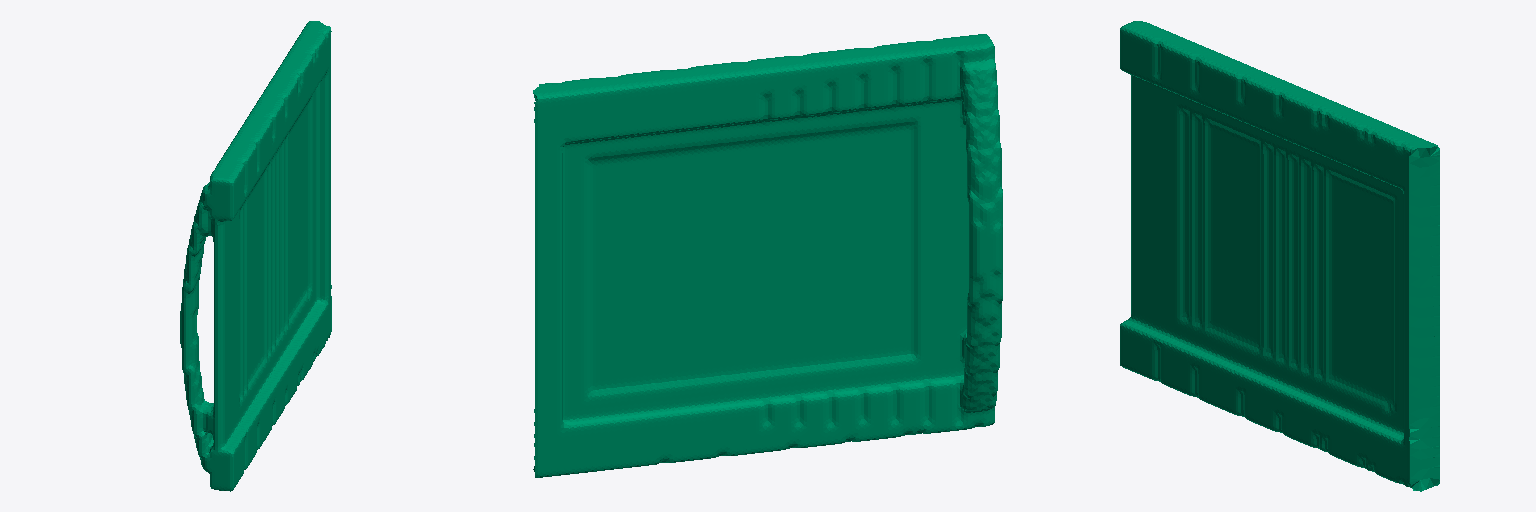
robot.urdf — object:
<?xml version='1.0' encoding='utf-8'?>
<robot name="object">
  <link name="base">
    <inertial>
      <origin xyz="0 0 0" rpy="0 0 0" />
      <mass value="0.0" />
      <inertia ixx="0" ixy="0" ixz="0" iyy="0" iyz="0" izz="0" />
    </inertial>
  </link>
  <link name="link_1">
    <visual>
      <origin xyz="0 0 0.442213099" rpy="0 0 0" />
      <geometry>
        <mesh filename="meshes/link_1.stl" />
      </geometry>
    </visual>
    <collision>
      <origin xyz="0 0 0.442213099" rpy="0 0 0" />
      <geometry>
        <mesh filename="meshes/link_1.stl" />
      </geometry>
    </collision>
    <inertial>
      <origin xyz="0.197543814 -0.0393582574 0.458376354" rpy="0 0 0" />
      <mass value="976.575248" />
      <inertia ixx="265.132926" ixy="-45.4188641" ixz="-0.0677400685" iyy="191.41265" iyz="0.067343344" izz="291.763645" />
    </inertial>
  </link>
  <link name="link_2">
    <visual>
      <origin xyz="0.55257424 -0.647134065 -0.0156274979" rpy="0 0 0" />
      <geometry>
        <mesh filename="meshes/link_2.stl" />
      </geometry>
    </visual>
    <collision>
      <origin xyz="0.55257424 -0.647134065 -0.0156274979" rpy="0 0 0" />
      <geometry>
        <mesh filename="meshes/link_2.stl" />
      </geometry>
    </collision>
    <inertial>
      <origin xyz="-0.372601471 -0.356756921 -0.00151320252" rpy="0 0 0" />
      <mass value="33.3797183" />
      <inertia ixx="4.89775552" ixy="-1.69836703" ixz="0.00480350739" iyy="5.01910431" iyz="0.00395458892" izz="3.4331933" />
    </inertial>
  </link>
  <joint name="joint_1_2" type="revolute">
    <parent link="link_1" />
    <child link="link_2" />
    <origin xyz="-0.55257424 0.647134065 0.457840597" rpy="0 0 0" />
    <axis xyz="0.00310061246 -0.00671197532 -0.999972667" />
    <limit lower="-1.57" upper="1.57" effort="10.0" velocity="1.0" />
  </joint>
  <joint name="base_to_1" type="fixed">
    <parent link="base" />
    <child link="link_1" />
    <origin xyz="0 0 -0.442213099" rpy="0 0 0" />
  </joint>
</robot>

--- What the picture shows (computed from the rendered views, not written in the file) ---
Views: 3 orthographic renders of the robot side by side, from view 1: azimuth 30°, elevation 25°; view 2: azimuth 150°, elevation 25°; view 3: azimuth 270°, elevation 25°.
Robot: object — 3 links, 2 joints (1 revolute, 1 fixed); root link base; default pose: all joints at 0.
Visible links, largest first — view 1: link_2; view 2: link_2; view 3: link_2.
Boxes of the visible links, <box> form: link_2: <box>180,21,331,491</box>; link_2: <box>533,34,1002,477</box>; link_2: <box>1120,21,1439,491</box>.
Bounding box of the posed robot: 0.7949 × 0.7661 × 0.9002 m (x, y, z).
1 mesh visuals loaded from 2 distinct referenced files (1 binary STL); not drawn: 1 (reference not matched to a file when rendering).
